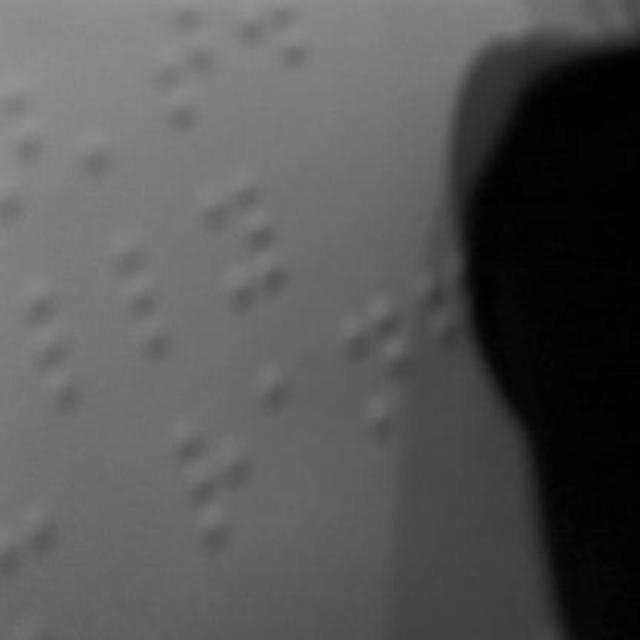braiile: (198, 174, 292, 310), (334, 286, 416, 438), (172, 406, 262, 542), (112, 233, 206, 363), (21, 273, 107, 405)
